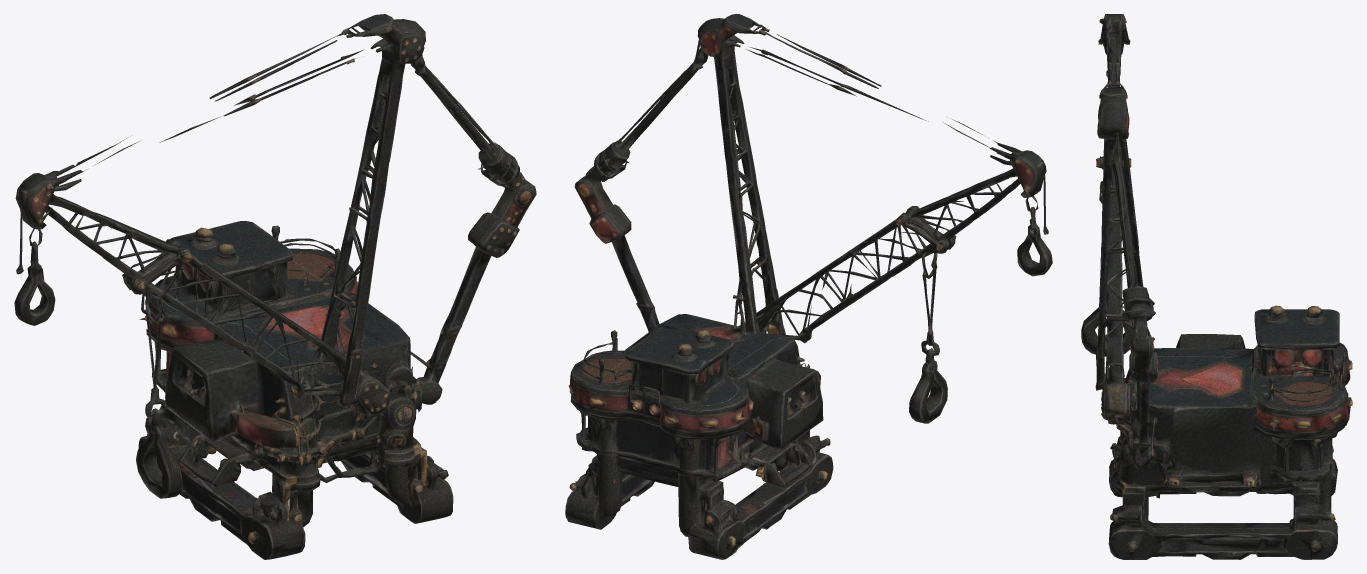
File: ironcrownHarbourCrane.a1df0ffb.glb
3 views of the same model, side by side, from view 1: azimuth 30°, elevation 25°; view 2: azimuth 150°, elevation 25°; view 3: azimuth 270°, elevation 25° (orthographic). The views are drawn at different scales.
Bounding box in the file's own units: 1.9 × 1.76 × 0.9854.
1 material, 1 textured.
